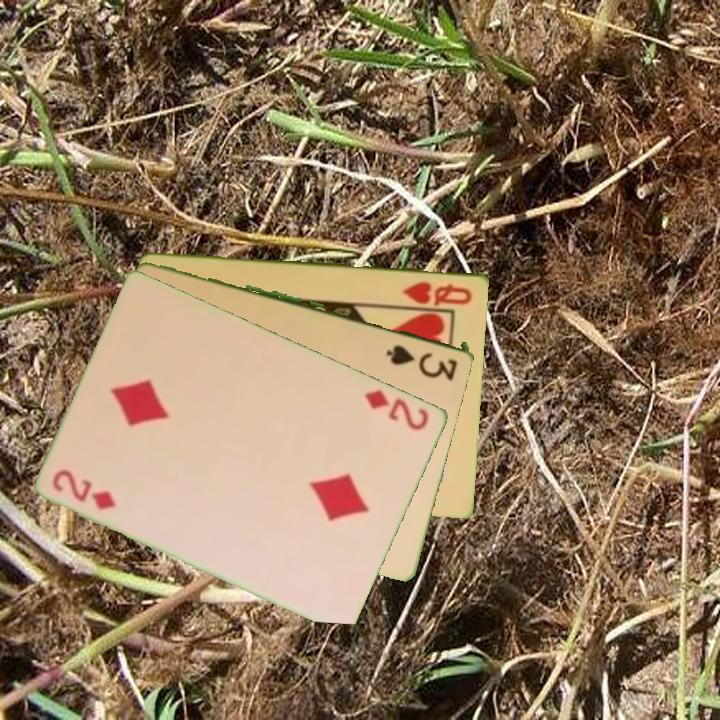2d: (361, 385, 433, 433), (49, 466, 120, 513)
3s: (382, 340, 461, 378)
Qh: (399, 277, 475, 307)
